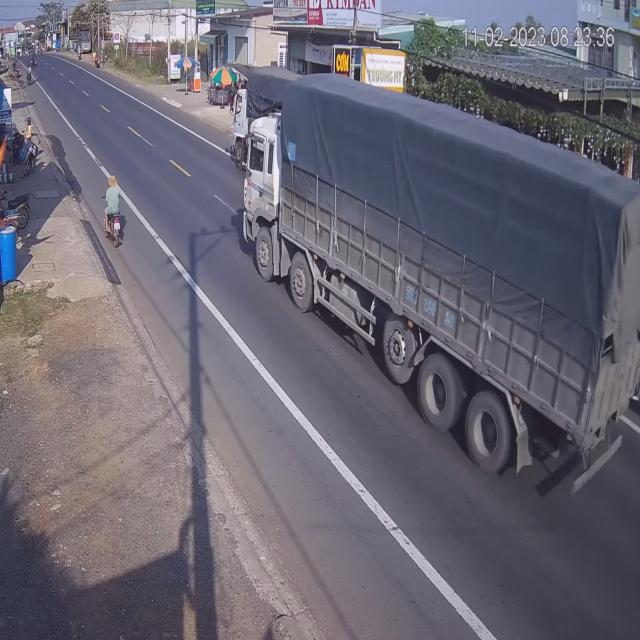motorbike: (105, 180, 130, 249)
truck: (245, 103, 640, 472), (234, 79, 281, 156)
